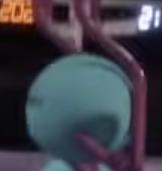algae: (25, 54, 132, 165), (41, 159, 113, 171)
